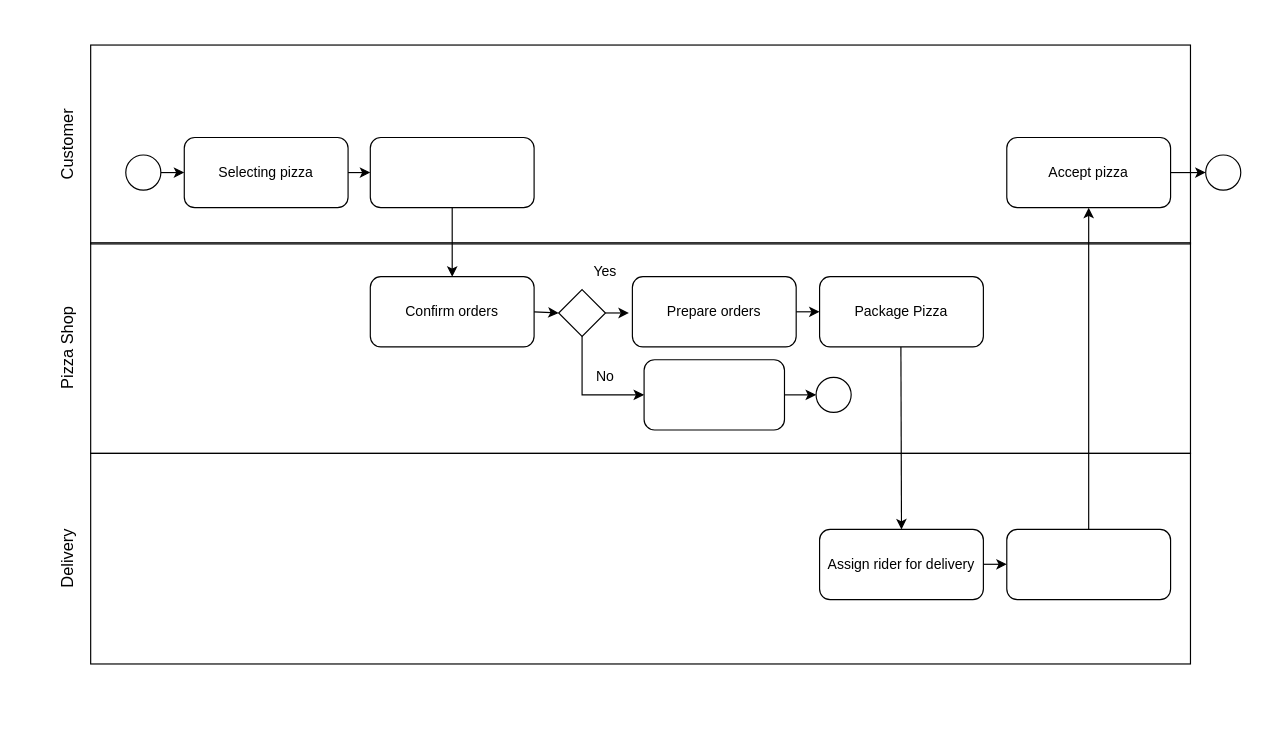
Some shapes in this 1268 by 742 pixel diagram are drawn without their labels. The shapes that lost their labels are listed below. From the top down, each one's box as (x1, y1, x2, y2) in pixels, then its label:
(369, 136, 534, 208): Making orders
(643, 359, 784, 430): Cancel orders
(1006, 528, 1171, 600): Deliver pizza
